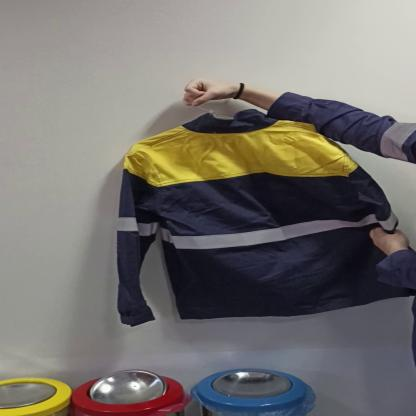C_eletrica: (102, 111, 411, 328)
